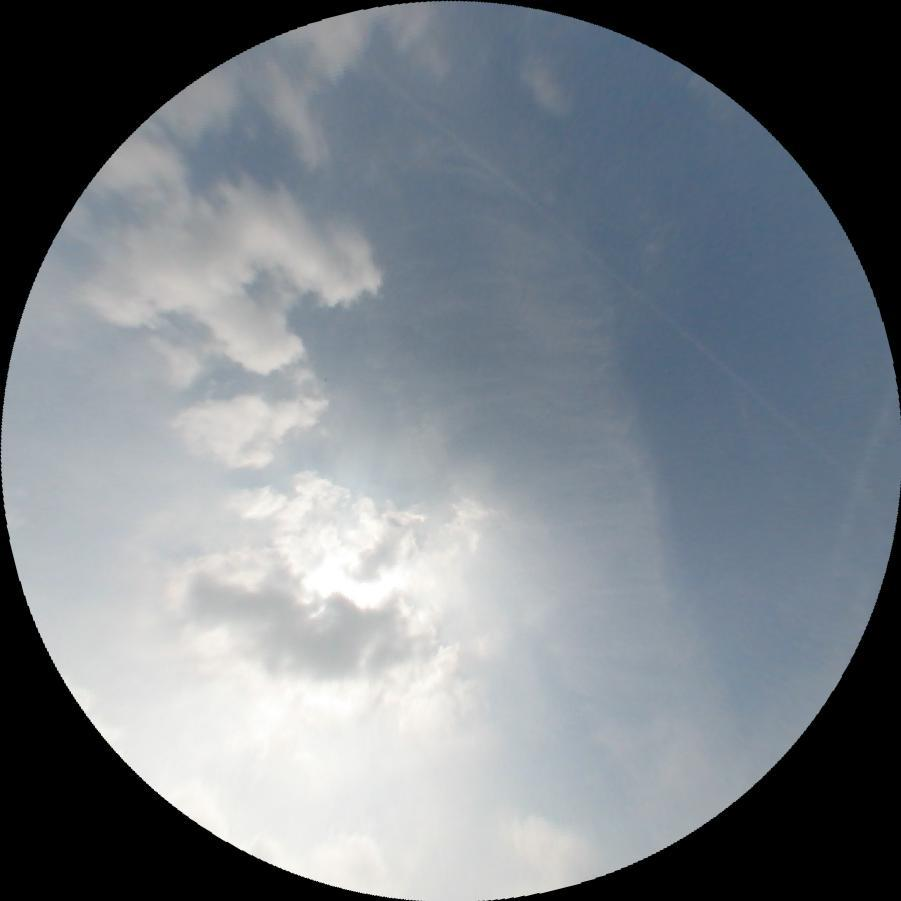contrail old: (357, 48, 857, 484)
sun: (268, 549, 428, 723)
unknow: (802, 369, 898, 623)
